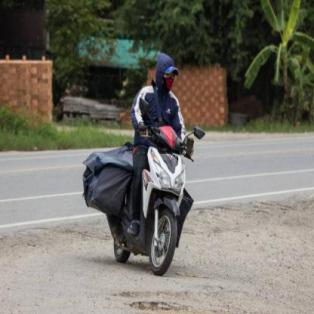Motocicleta: (94, 110, 204, 280)
